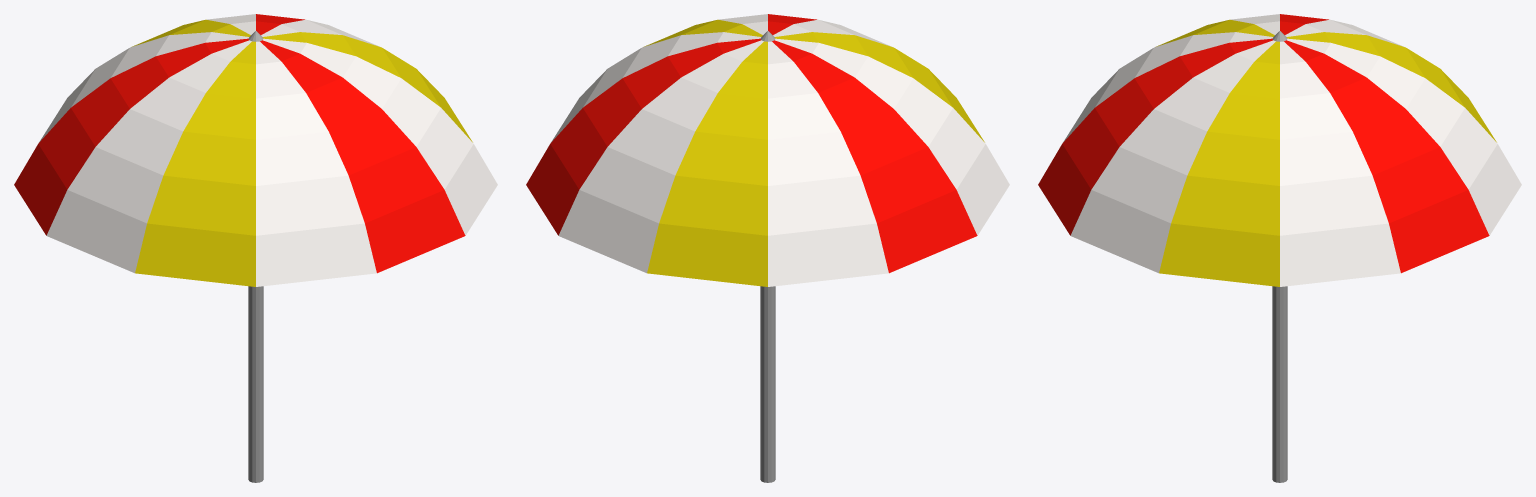
File: umbrella.fbx
The picture shows the model from 3 angles, left to right: view 1: azimuth 30°, elevation 25°; view 2: azimuth 150°, elevation 25°; view 3: azimuth 270°, elevation 25°; orthographic projection.
Visible parts, largest first — view 1: Sphere; view 2: Sphere; view 3: Sphere.
Part boxes in pixels (<box>): Sphere: <box>14,14,497,482</box>; Sphere: <box>526,14,1009,482</box>; Sphere: <box>1038,14,1521,482</box>.
Size of the model in its own units: 185 by 189 by 185.
